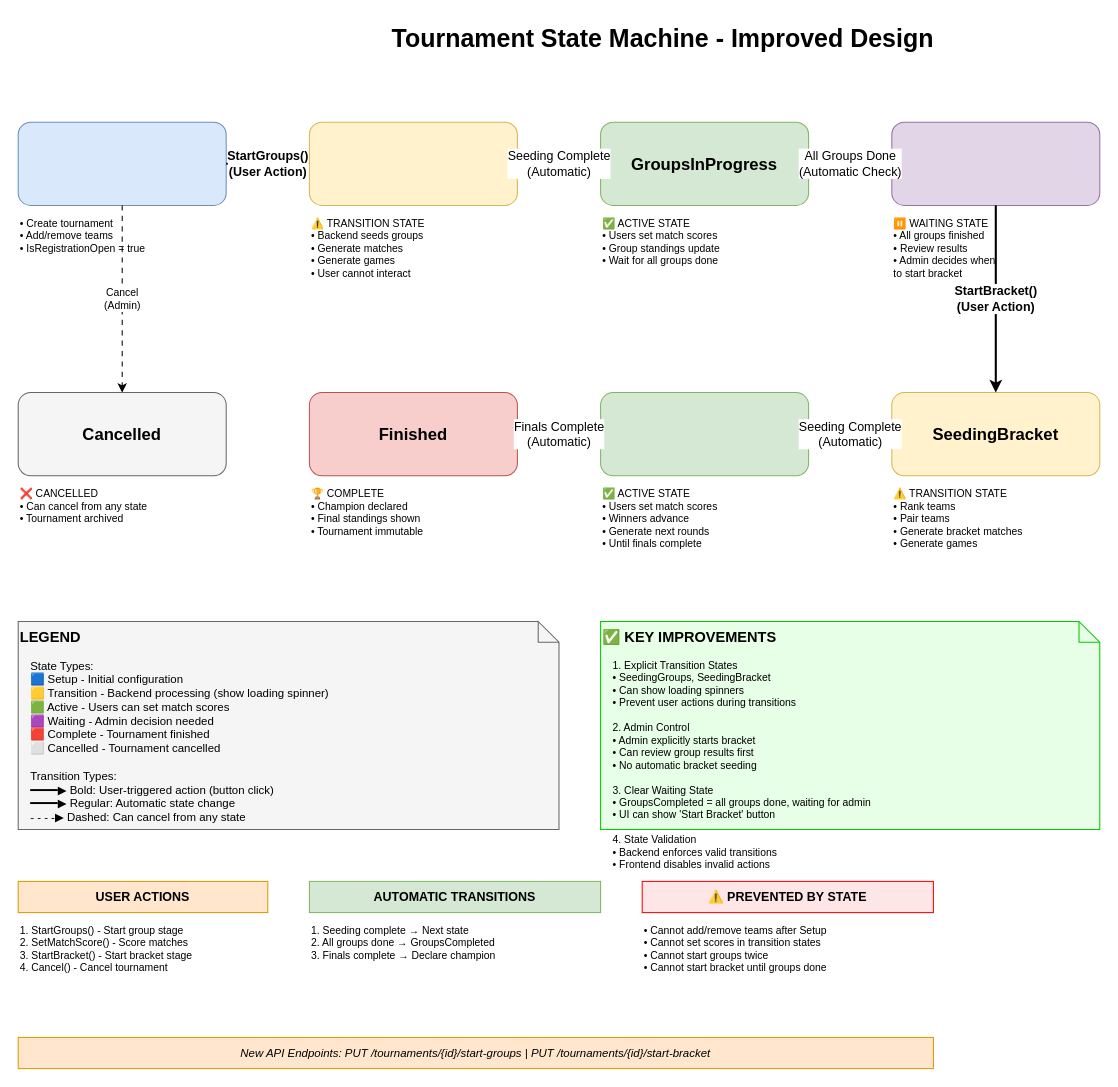
Image size: 1118x1087. Some labels were removed from this diagram. Here are the shapes that lost their labels. From the top down, the centre of each, then its label:
the point at 121,163: Setup
the point at 412,163: SeedingGroups
the point at 995,163: GroupsCompleted
the point at 704,434: BracketInProgress
